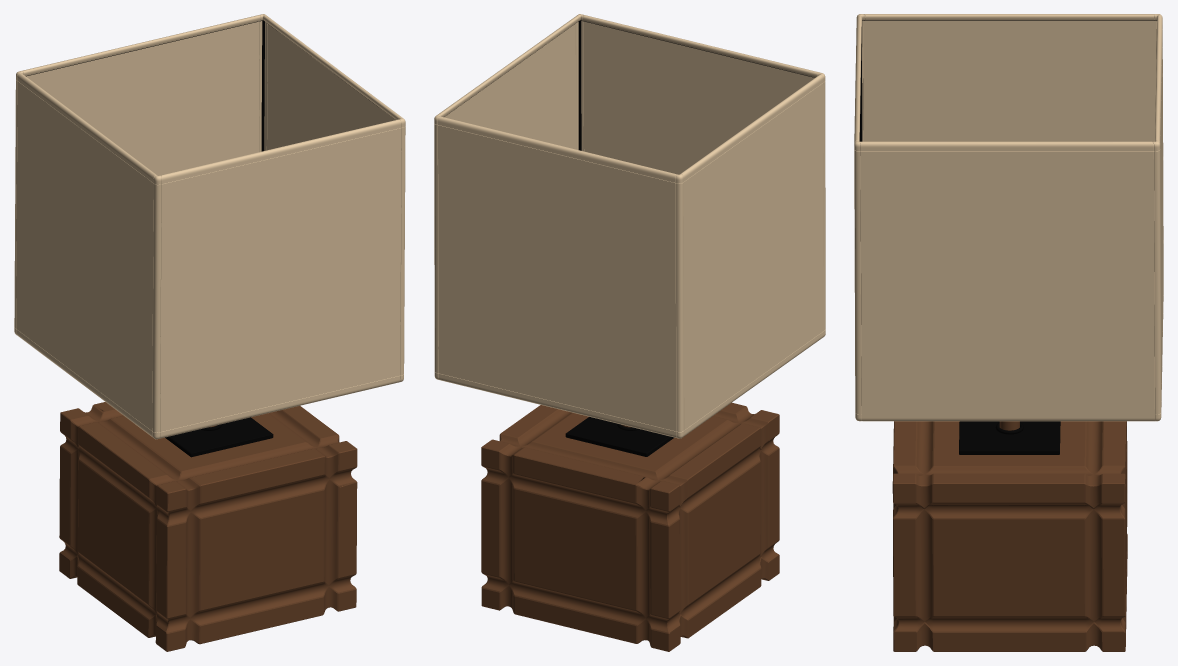
Rendered from lampara.obj.
3 renders of one model, left to right at view 1: azimuth 30°, elevation 25°; view 2: azimuth 150°, elevation 25°; view 3: azimuth 270°, elevation 25°, orthographic. The views are drawn at different scales.
Visible parts, largest first — view 1: polySurface111; view 2: polySurface111; view 3: polySurface111.
Boxes of the visible parts, x1,y1,x2,y2 form: polySurface111: (14,14,405,651); polySurface111: (434,14,825,651); polySurface111: (854,14,1163,651).
Size of the model in its own units: 2.61 by 4.91 by 2.61.
Materials: 9 (4 with a texture image).
